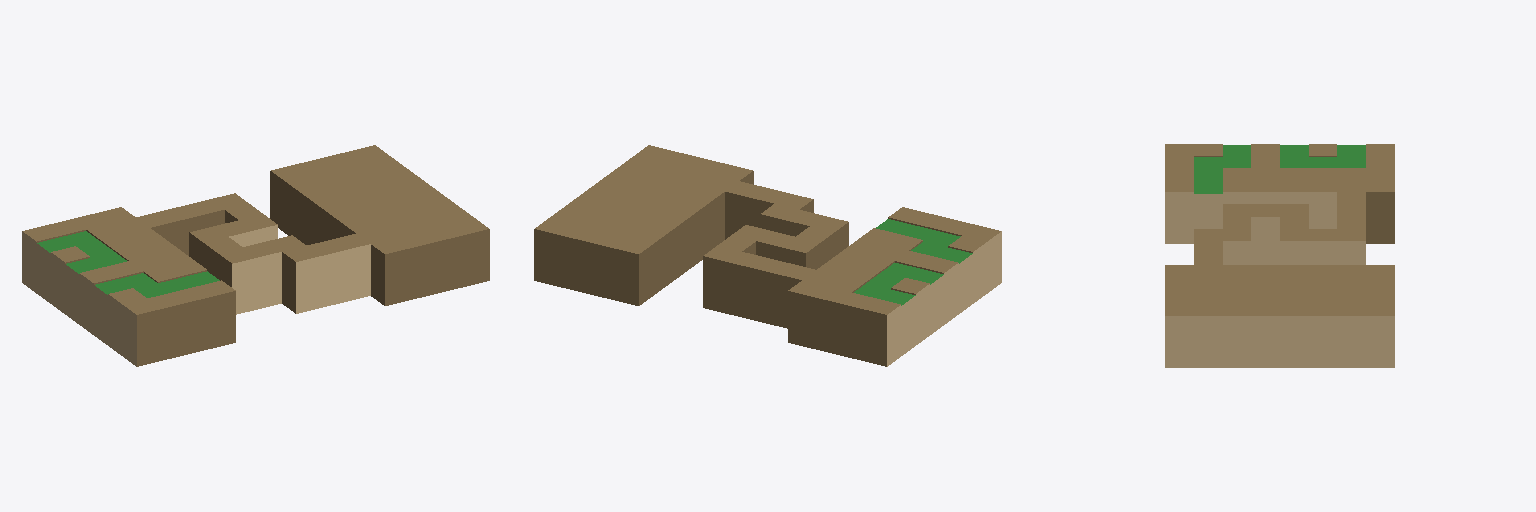
File: Map2.obj
3 renders of one model, left to right at view 1: azimuth 30°, elevation 25°; view 2: azimuth 150°, elevation 25°; view 3: azimuth 270°, elevation 25°, orthographic.
Parts seen in each view (by area): view 1: Map1&Map2_v8_Body19_0; view 2: Map1&Map2_v8_Body19_0; view 3: Map1&Map2_v8_Body19_0.
Part boxes in pixels (x1,y1,x2,y2): Map1&Map2_v8_Body19_0: (22,145,489,366); Map1&Map2_v8_Body19_0: (534,145,1001,366); Map1&Map2_v8_Body19_0: (1165,144,1394,367).
Size of the model in its own units: 128 by 18 by 72.